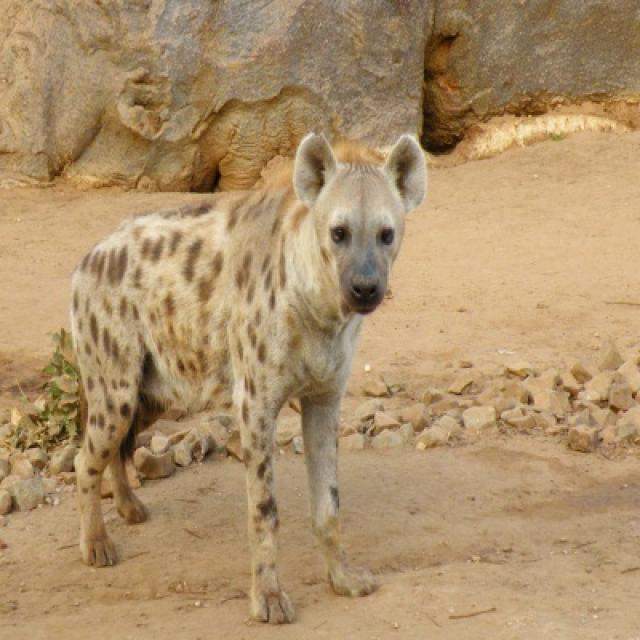hyena: (72, 133, 426, 621)
